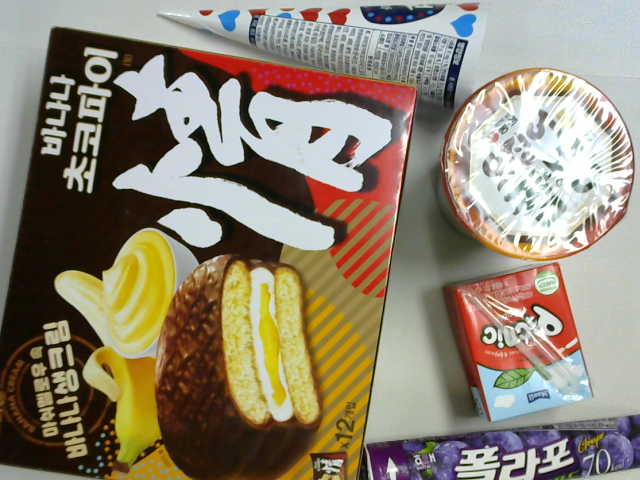Bravo_Cone_(Banila)_CVS: (145, 6, 499, 102)
Choco_Pie_Banana: (3, 24, 418, 480)
Ojjam: (441, 68, 633, 260)
Picnic_Apple: (445, 268, 599, 426)
Polapo_Grape: (365, 418, 624, 480)
